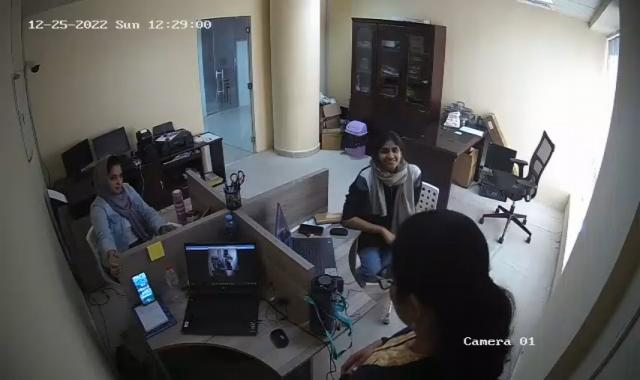no_hairnet: (378, 209, 512, 337), (373, 131, 404, 170), (96, 158, 124, 195)
